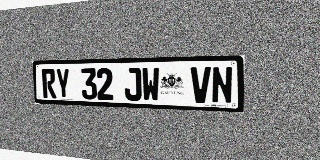2: (96, 68, 113, 100)
3: (81, 68, 97, 100)
J: (124, 67, 142, 101)
N: (211, 66, 233, 104)
R: (41, 69, 56, 98)
V: (191, 67, 211, 103)
W: (141, 67, 160, 102)
Y: (55, 68, 71, 99)
